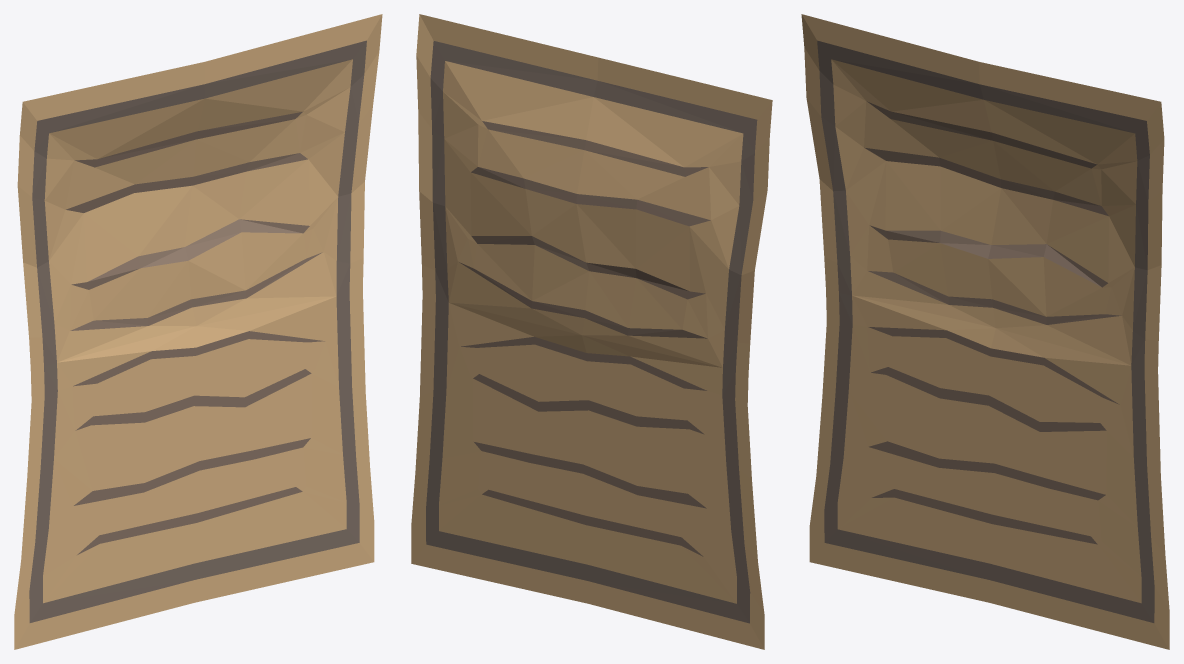
Rendered from SFHW_Paper_025.fbx.
3 views of the same model, side by side, from view 1: azimuth 30°, elevation 25°; view 2: azimuth 150°, elevation 25°; view 3: azimuth 330°, elevation 25° (orthographic).
Visible parts, largest first — view 1: SFHW_Paper_025; view 2: SFHW_Paper_025; view 3: SFHW_Paper_025.
Part boxes in pixels (x1,y1,x2,y2): SFHW_Paper_025: (14,14,382,649); SFHW_Paper_025: (411,14,772,649); SFHW_Paper_025: (801,14,1169,649).
Size of the model in its own units: 17.01 by 25.03 by 1.42.
